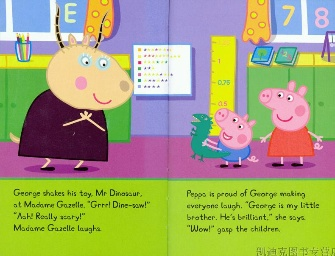Peppa: (258, 80, 324, 169)
